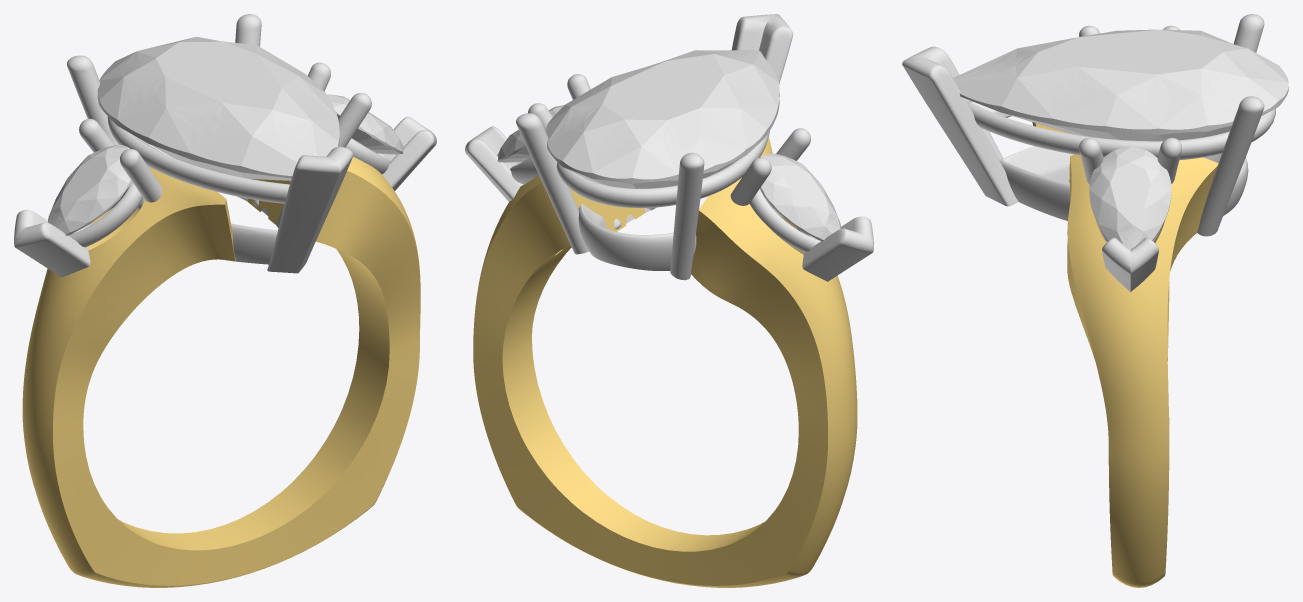
Rendered from DaveNancy.glb.
3 views of the same model, side by side, from view 1: azimuth 30°, elevation 25°; view 2: azimuth 150°, elevation 25°; view 3: azimuth 270°, elevation 25° (orthographic). The views are drawn at different scales.
Parts seen in each view (by area): view 1: David and nancy yg for 3d model, David and nancy dia for 3d model.001, David and nancy PT for 3d model, David and nancy dia for 3d model, David and nancy dia for 3d model.002; view 2: David and nancy yg for 3d model, David and nancy PT for 3d model, David and nancy dia for 3d model.001, David and nancy dia for 3d model, David and nancy dia for 3d model.002; view 3: David and nancy yg for 3d model, David and nancy dia for 3d model.001, David and nancy PT for 3d model, David and nancy dia for 3d model.002.
Part boxes in pixels (box(x1,y1,x2,y2)): David and nancy yg for 3d model: box(22, 156, 420, 587); David and nancy dia for 3d model.001: box(97, 36, 339, 180); David and nancy PT for 3d model: box(14, 14, 436, 277); David and nancy dia for 3d model: box(48, 144, 131, 235); David and nancy dia for 3d model.002: box(327, 94, 403, 154); David and nancy yg for 3d model: box(473, 138, 857, 587); David and nancy PT for 3d model: box(465, 14, 873, 281); David and nancy dia for 3d model.001: box(546, 50, 779, 210); David and nancy dia for 3d model: box(760, 153, 840, 241); David and nancy dia for 3d model.002: box(497, 105, 563, 162); David and nancy yg for 3d model: box(1032, 122, 1218, 587); David and nancy dia for 3d model.001: box(953, 29, 1288, 141); David and nancy PT for 3d model: box(902, 14, 1275, 291); David and nancy dia for 3d model.002: box(1089, 147, 1171, 249).
Size of the model in its own units: 22.51 by 25.63 by 17.86.
